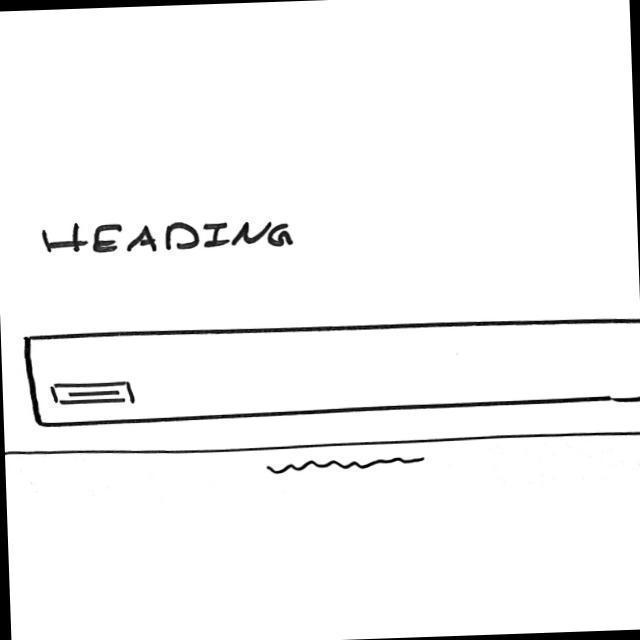container: (21, 311, 640, 427)
icon-button: (45, 377, 142, 410)
label: (40, 214, 299, 259)
text: (264, 454, 428, 475)
